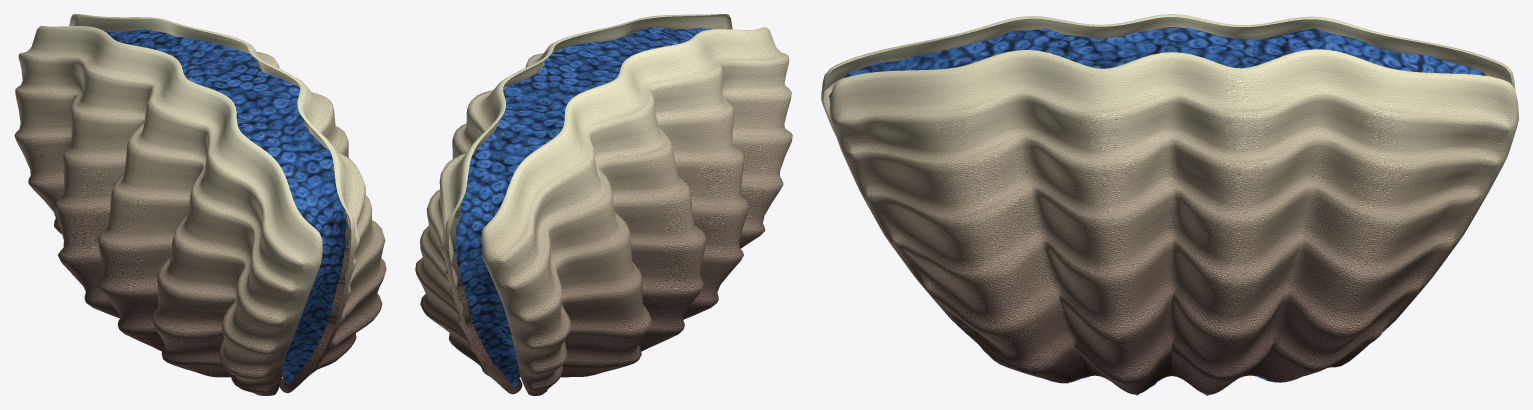
The picture shows the model from 3 angles, left to right: view 1: azimuth 30°, elevation 25°; view 2: azimuth 150°, elevation 25°; view 3: azimuth 270°, elevation 25°; orthographic projection. The views are drawn at different scales.
Visible parts, largest first — view 1: Plane.003, Plane.001; view 2: Plane.003, Plane.001; view 3: Plane.003, Plane.001.
Boxes of the visible parts, bbox=[...] form: Plane.003: bbox=[14, 14, 386, 395]; Plane.001: bbox=[105, 29, 347, 385]; Plane.003: bbox=[415, 14, 792, 395]; Plane.001: bbox=[454, 27, 711, 392]; Plane.003: bbox=[821, 14, 1518, 394]; Plane.001: bbox=[829, 27, 1485, 395].
Size of the model in its own units: 0.992 by 1.1 by 2.05.
Materials: 2 (2 with a texture image).
